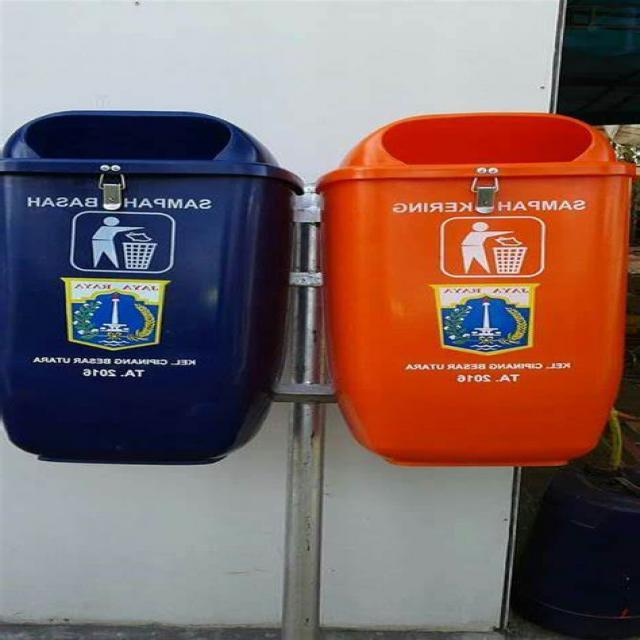garbage container: (296, 85, 640, 481), (0, 91, 303, 469)
